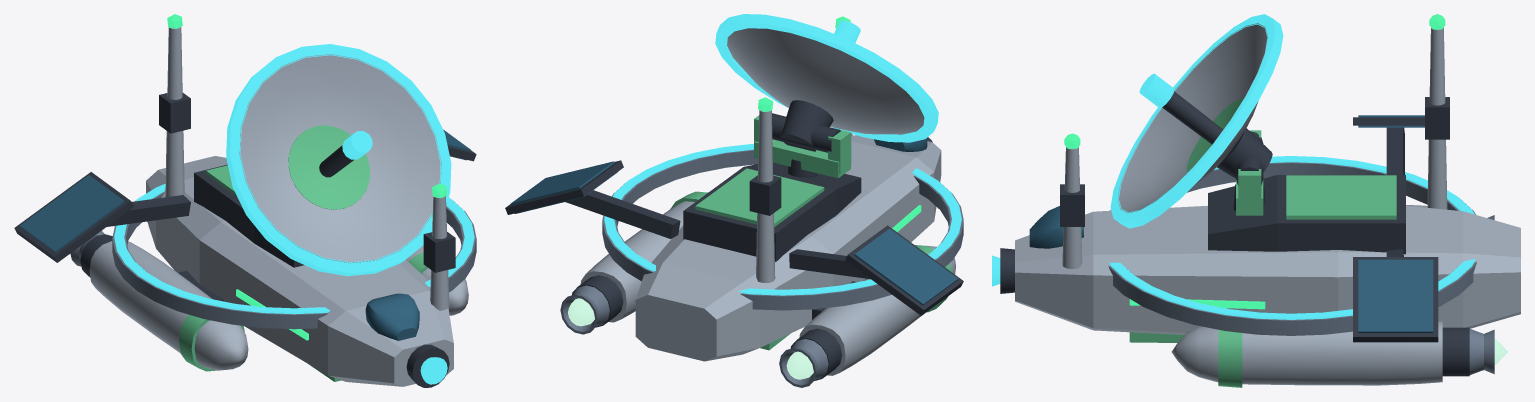
File: signal_booster.glb
The picture shows the model from 3 angles, left to right: view 1: azimuth 30°, elevation 25°; view 2: azimuth 150°, elevation 25°; view 3: azimuth 270°, elevation 25°; orthographic projection. The views are drawn at different scales.
Parts seen in each view (by area): view 1: signal_booster; view 2: signal_booster; view 3: signal_booster.
Boxes of the visible parts, x1,y1,x2,y2 form: signal_booster: (14, 14, 476, 387); signal_booster: (505, 14, 963, 387); signal_booster: (992, 14, 1520, 387).
Bounding box in the file's own units: 4.98 × 3.14 × 5.07.
